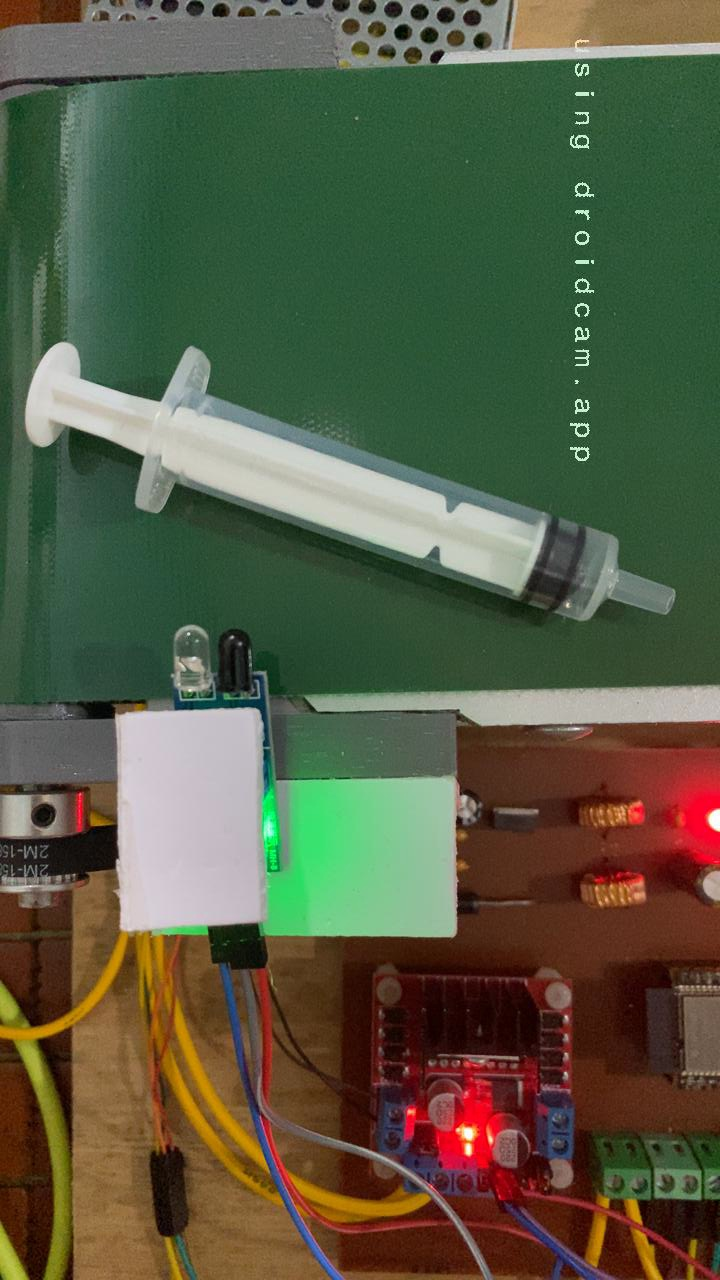syringe: (17, 335, 683, 628)
